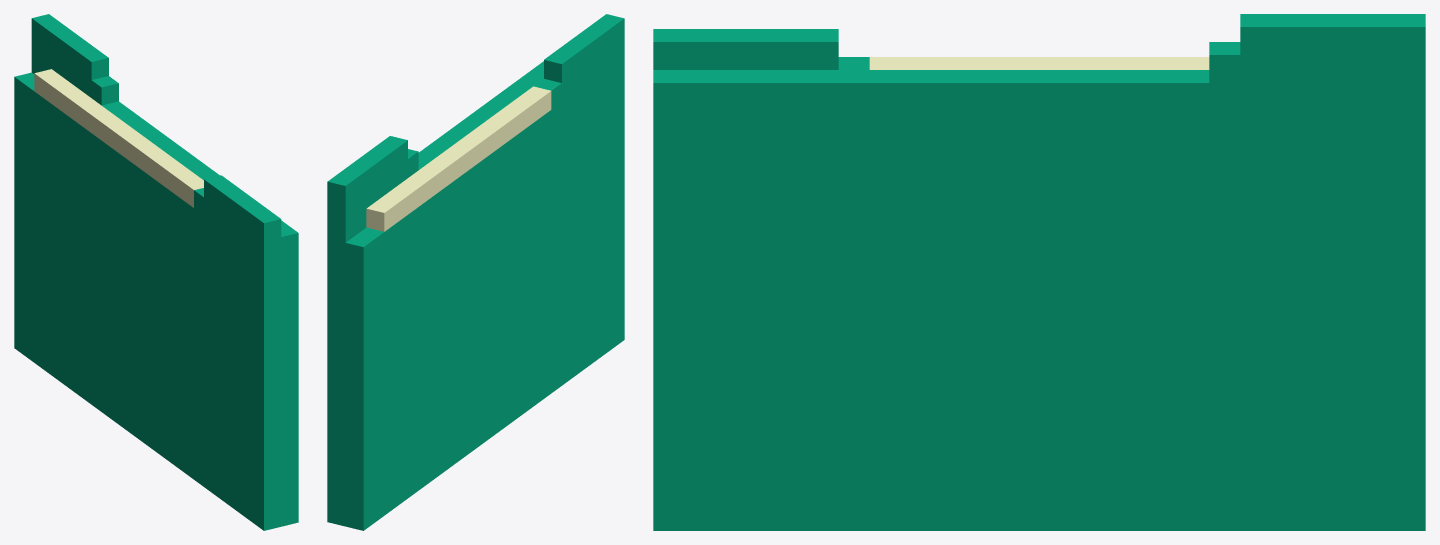
The model's file is _17_Model_Folder.obj.
3 renders of one model, left to right at view 1: azimuth 30°, elevation 25°; view 2: azimuth 150°, elevation 25°; view 3: azimuth 270°, elevation 25°, orthographic. The views are drawn at different scales.
Visible parts, largest first — view 1: _17_Model_Folder; view 2: _17_Model_Folder; view 3: _17_Model_Folder.
Boxes of the visible parts, <box> form: _17_Model_Folder: <box>14,14,298,530</box>; _17_Model_Folder: <box>327,14,624,530</box>; _17_Model_Folder: <box>653,14,1425,530</box>.
Size of the model in its own units: 2 by 18 by 25.
Materials: 1 (1 with a texture image).
